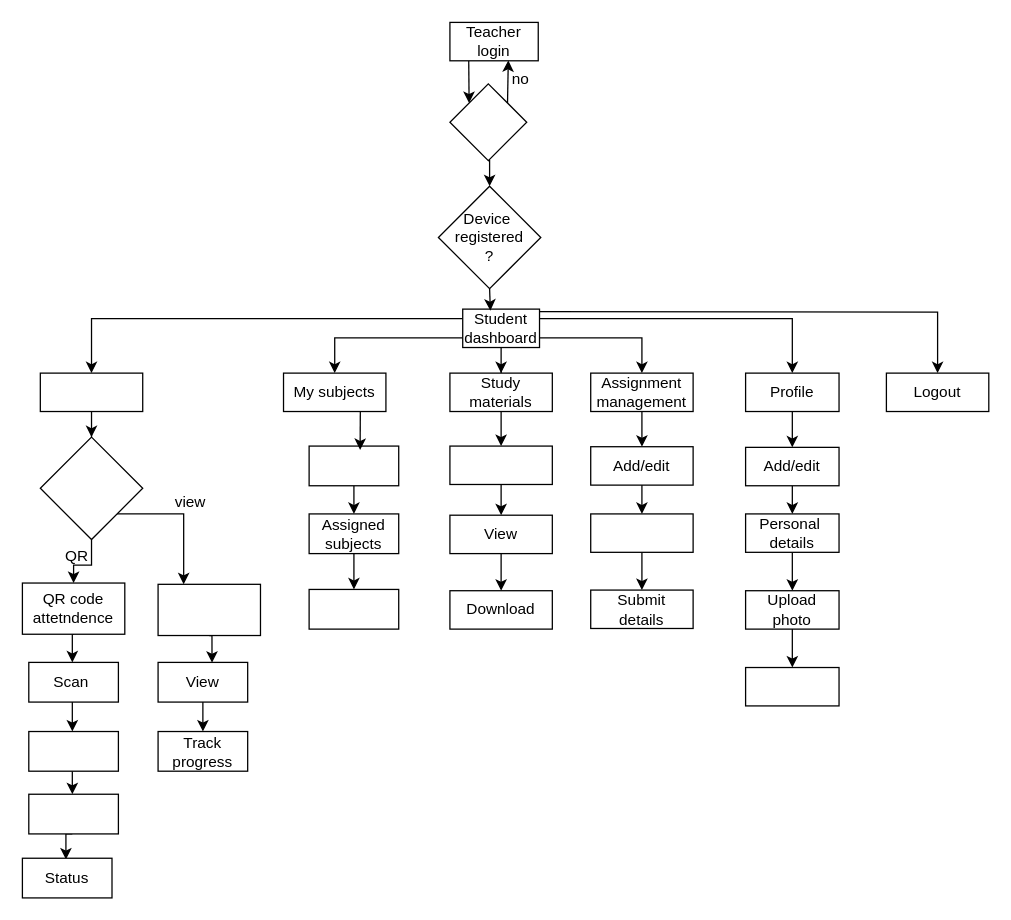
Some shapes in this 1011 by 920 pixel diagram are drawn without their labels. The shapes that lost their labels are listed below. From the top down, each one's centre as x and y in pixels, then its label:
At [488,122]: "Sucess?".
At [91,392]: "Attendence".
At [353,465]: "Current semester".
At [500,464]: "Upload".
At [91,488]: "Actions".
At [641,532]: "Assignments statistics".
At [208,609]: "Attendence statistics".
At [353,608]: "Details".
At [791,686]: "Device registration".
At [73,750]: "Display".
At [73,813]: "Marked attendence".
